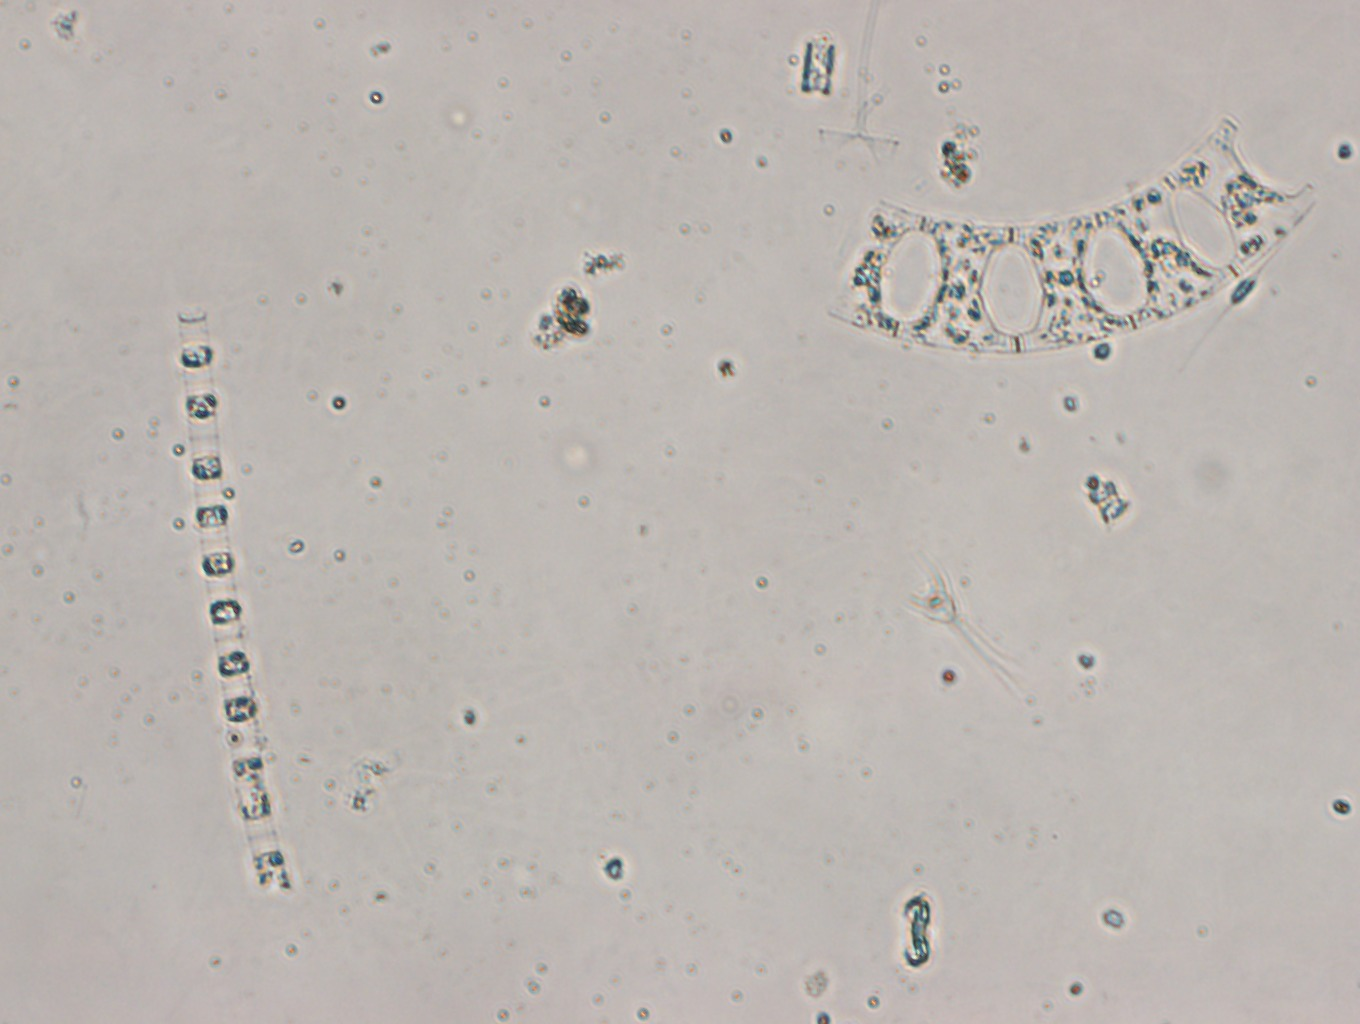eucampia: (824, 115, 1317, 352)
skeletonema: (178, 311, 292, 886)
